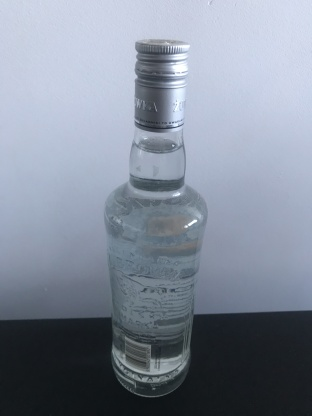nakretka: (133, 36, 191, 134)
